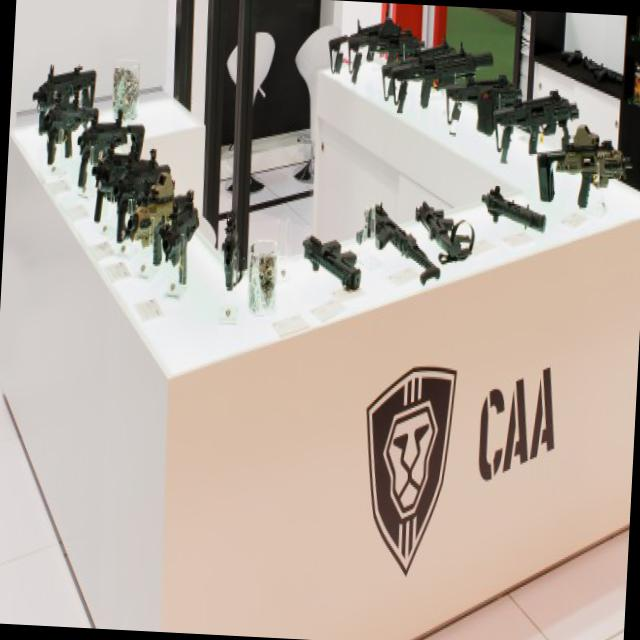handgun: (478, 182, 548, 236)
